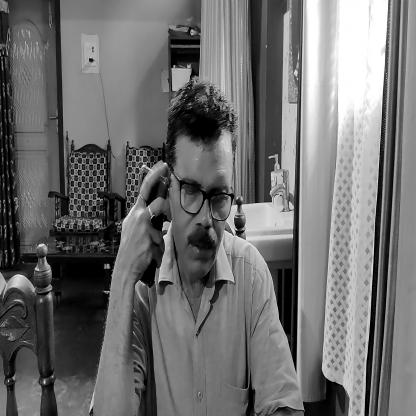Normal: (162, 71, 236, 282)
